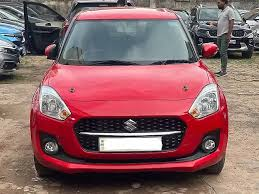Swift: (29, 9, 230, 186)
